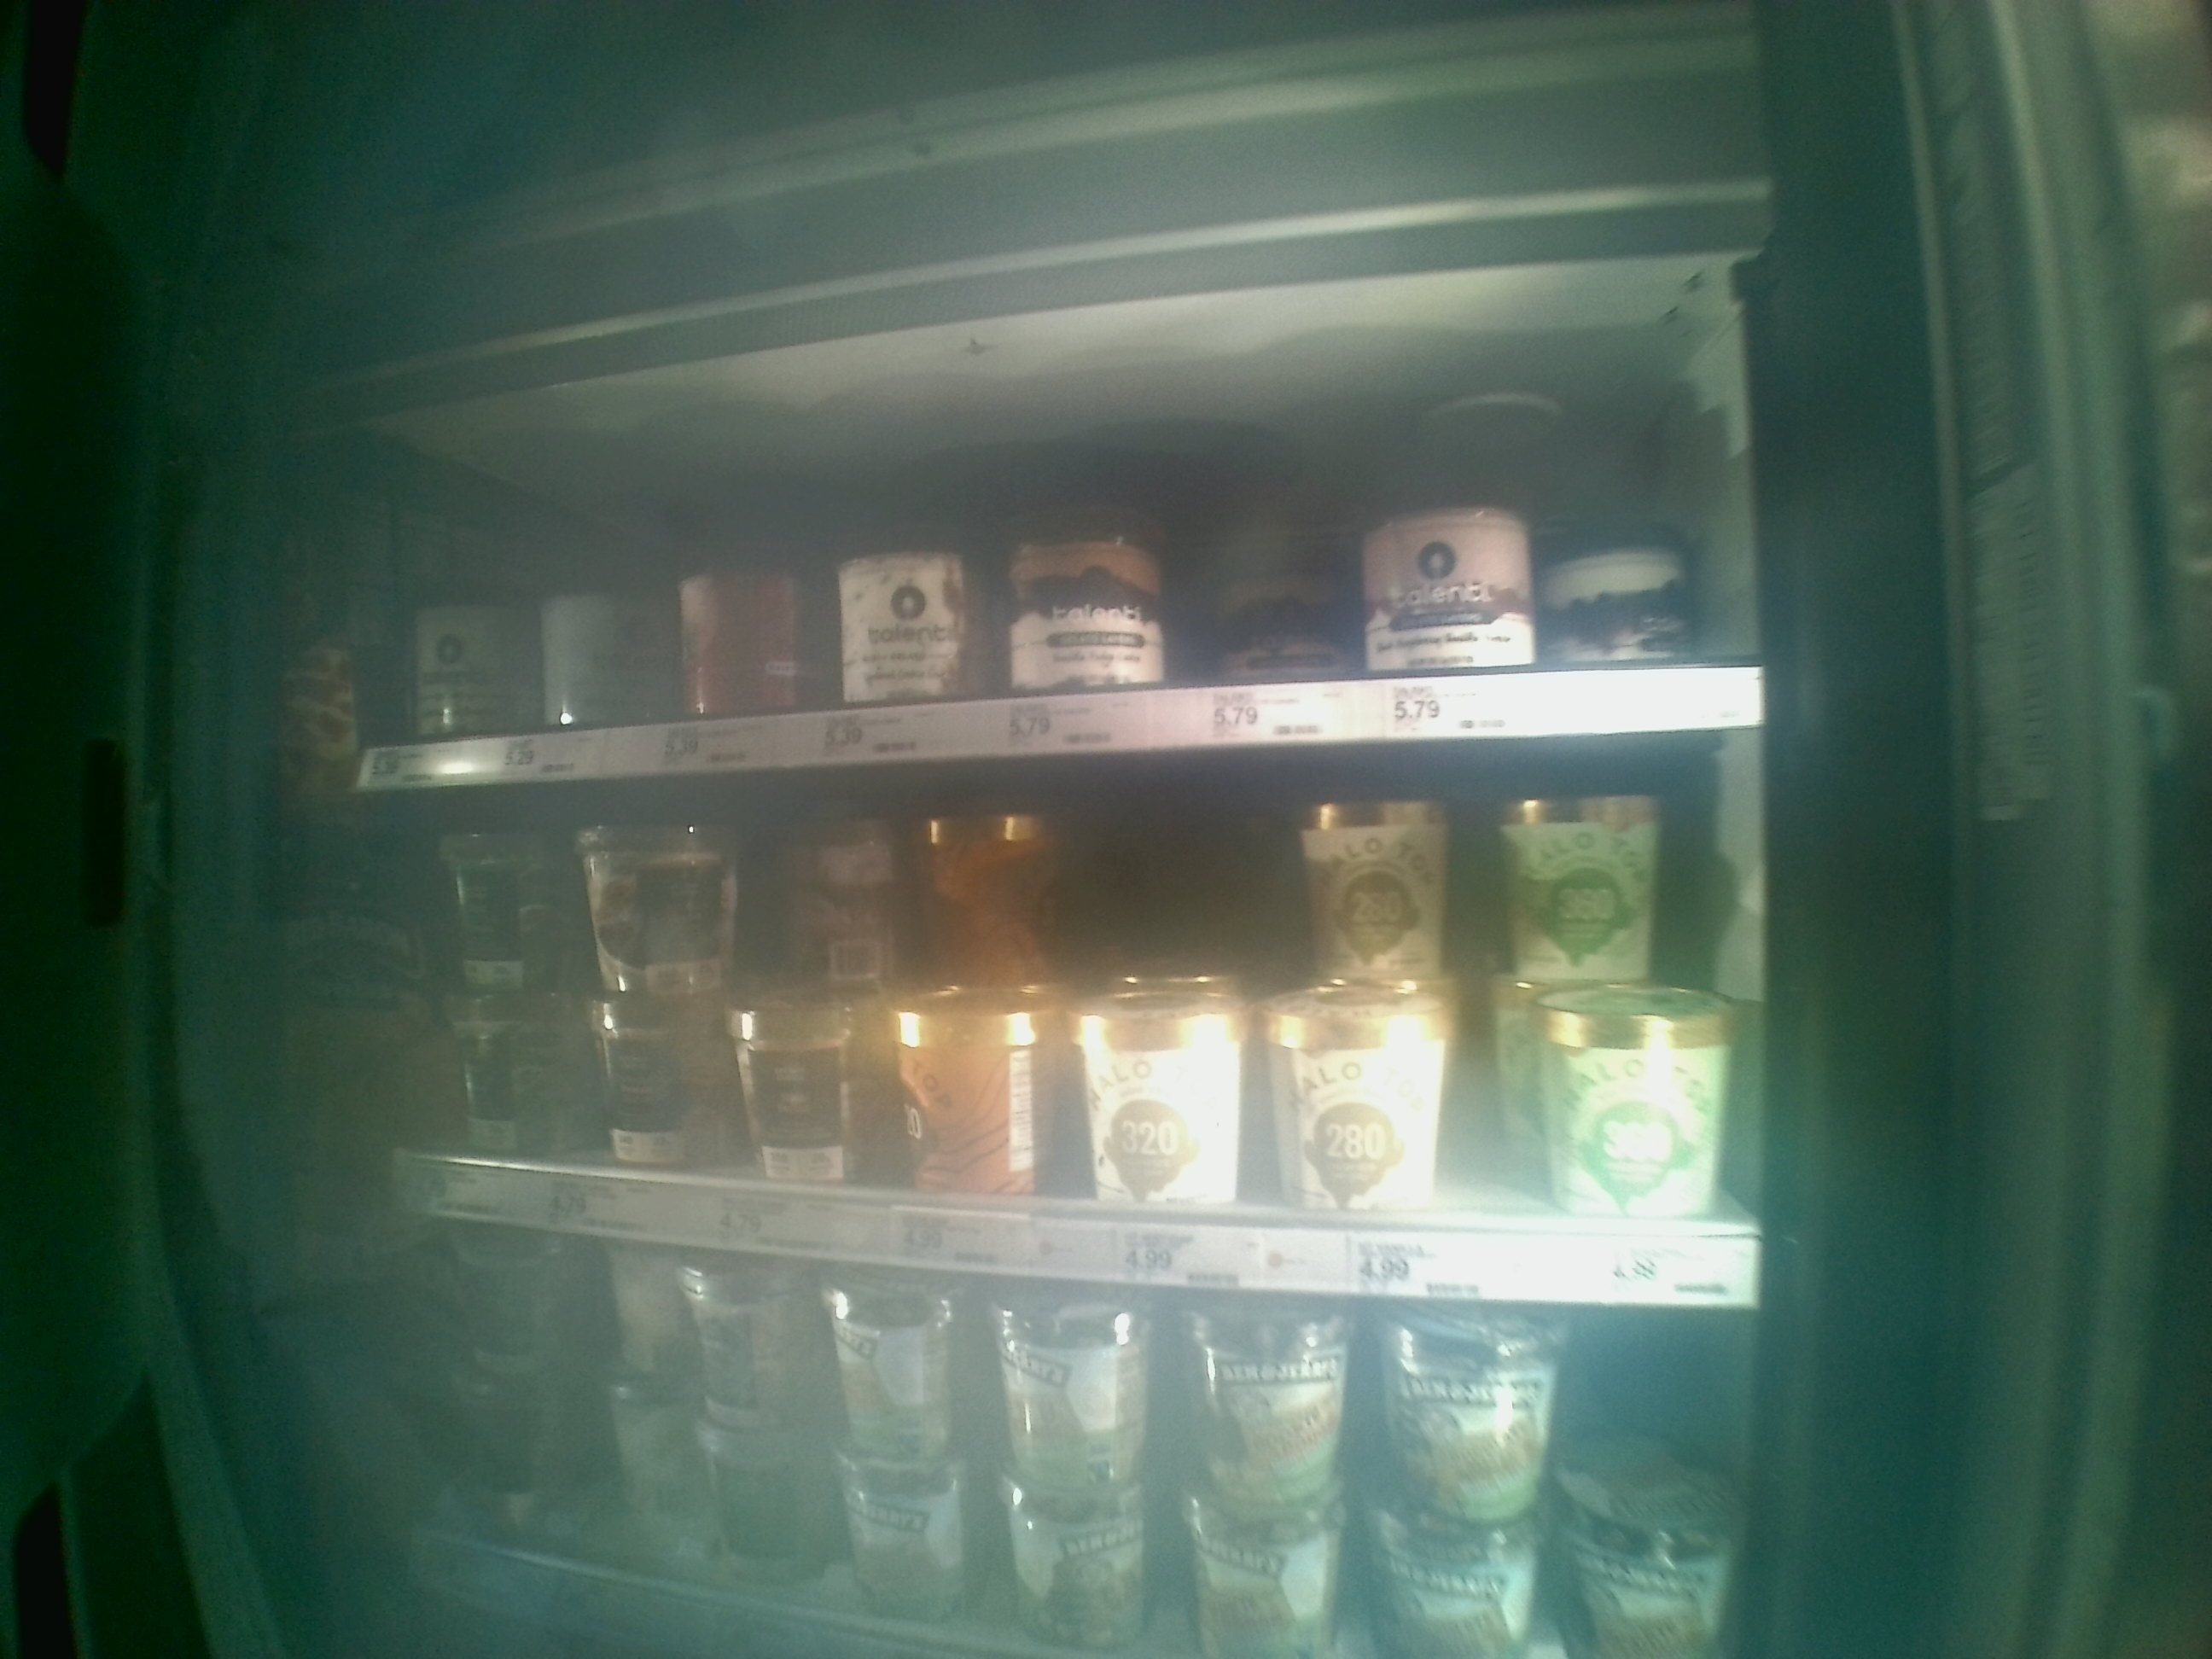shelf: (361, 721, 1757, 1309), (334, 357, 1761, 788)
